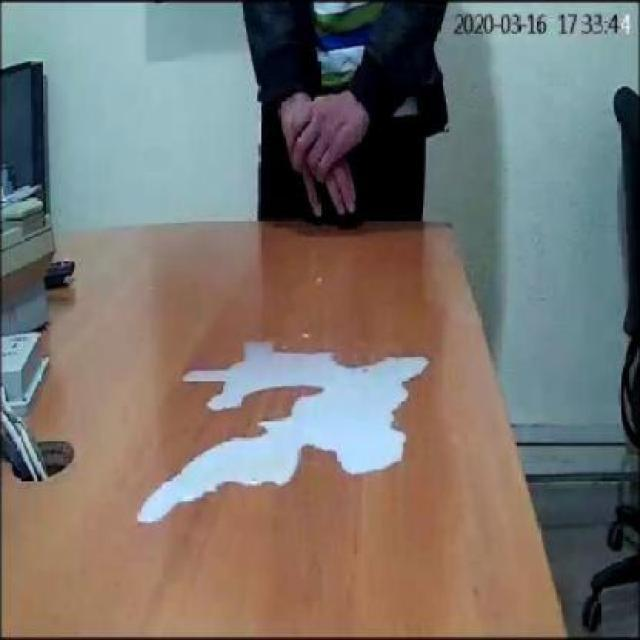spillage: (137, 343, 429, 524)
